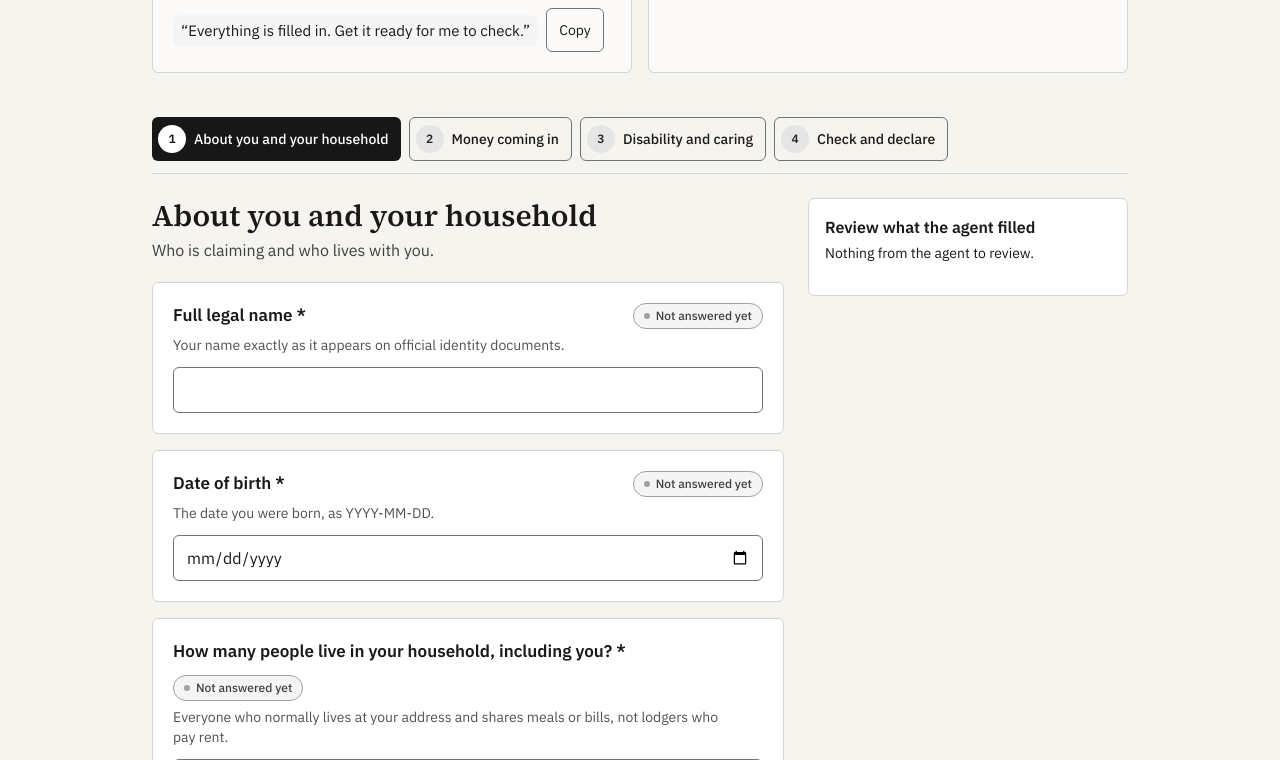
Hold the Pen page › without WebMCP: shows the activation steps and stays usable by hand
The image size is (1280, 760).
(page scrolled)
Type "Ada King" into the field labelled "Full legal name *".
click(468, 390); type("Ada King")  # box [173,367,763,413]
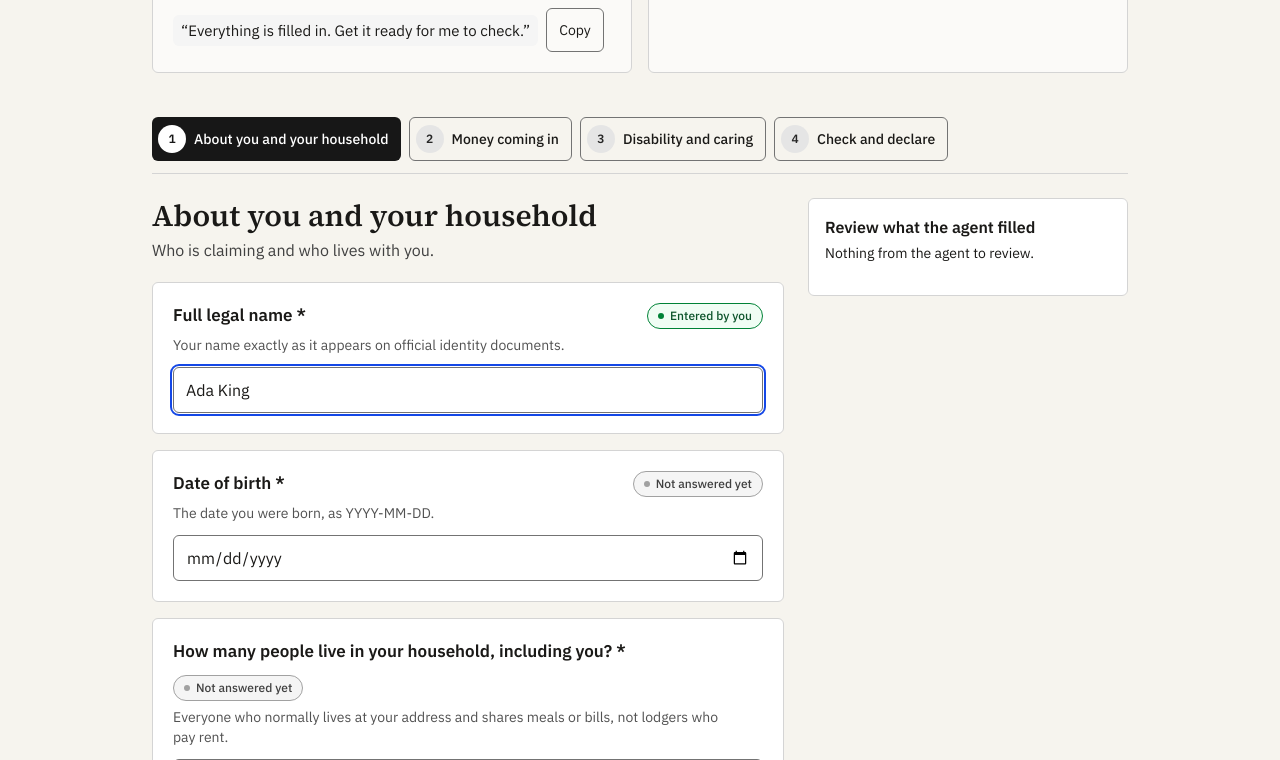
Expected: the text "Entered by you" is shown, [647,303,763,329]
